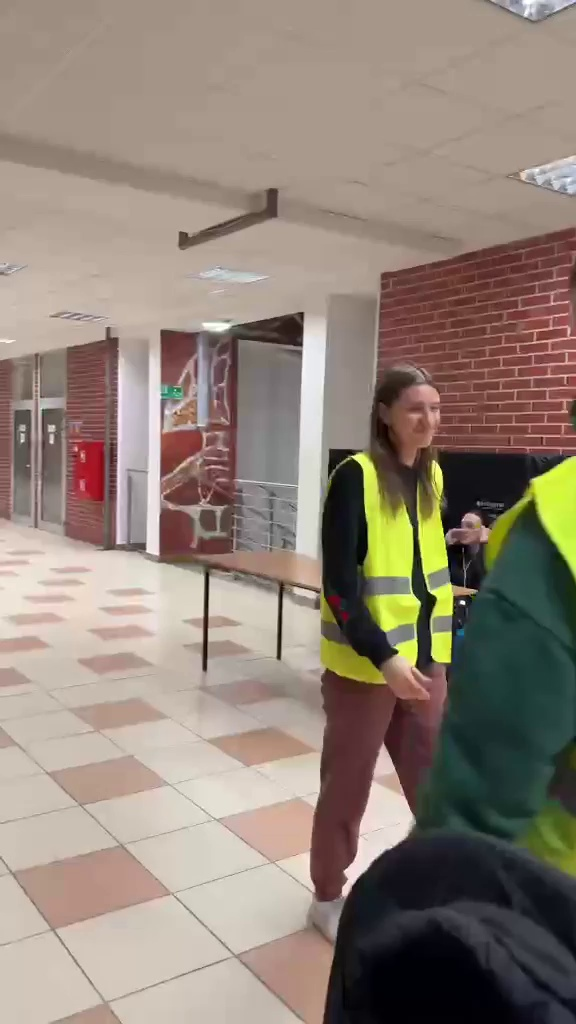no vest: (441, 507, 489, 579)
vest: (321, 359, 484, 857)
